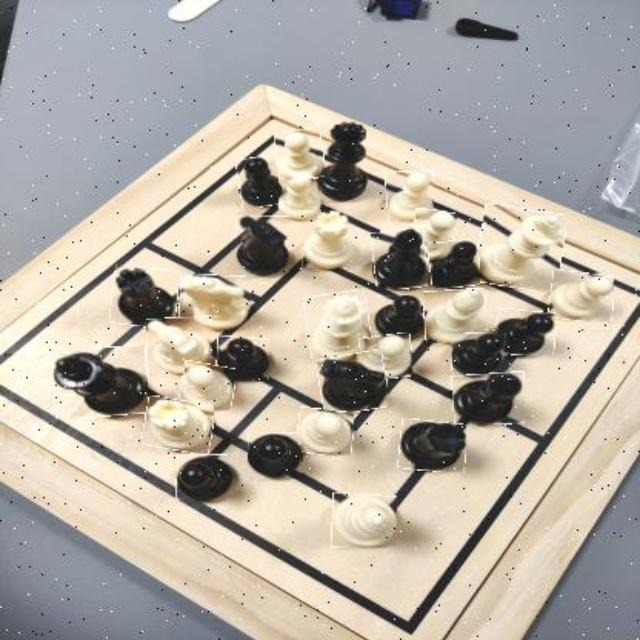black-bishop: (451, 373, 524, 425), (372, 229, 427, 290)
black-king: (53, 348, 148, 418)
black-knight: (318, 351, 387, 412), (235, 215, 290, 275)
black-pawn: (497, 309, 557, 356), (176, 454, 234, 501), (216, 336, 271, 382), (429, 240, 481, 288), (452, 333, 508, 377), (237, 156, 284, 208), (248, 433, 303, 477), (376, 295, 424, 339)
black-queen: (317, 122, 367, 202)
black-rook: (112, 266, 178, 327), (398, 420, 467, 472)
white-bishop: (332, 493, 398, 548), (423, 288, 486, 343)
white-king: (478, 206, 566, 290)
white-knight: (179, 275, 252, 331), (147, 316, 213, 374)
white-pawn: (550, 271, 614, 321), (297, 408, 355, 455), (180, 363, 235, 410), (385, 170, 434, 222), (276, 129, 323, 181), (361, 335, 413, 381), (411, 210, 457, 260), (278, 173, 321, 219)
white-queen: (305, 291, 371, 363)
white-rook: (143, 398, 213, 453), (301, 211, 356, 269)
